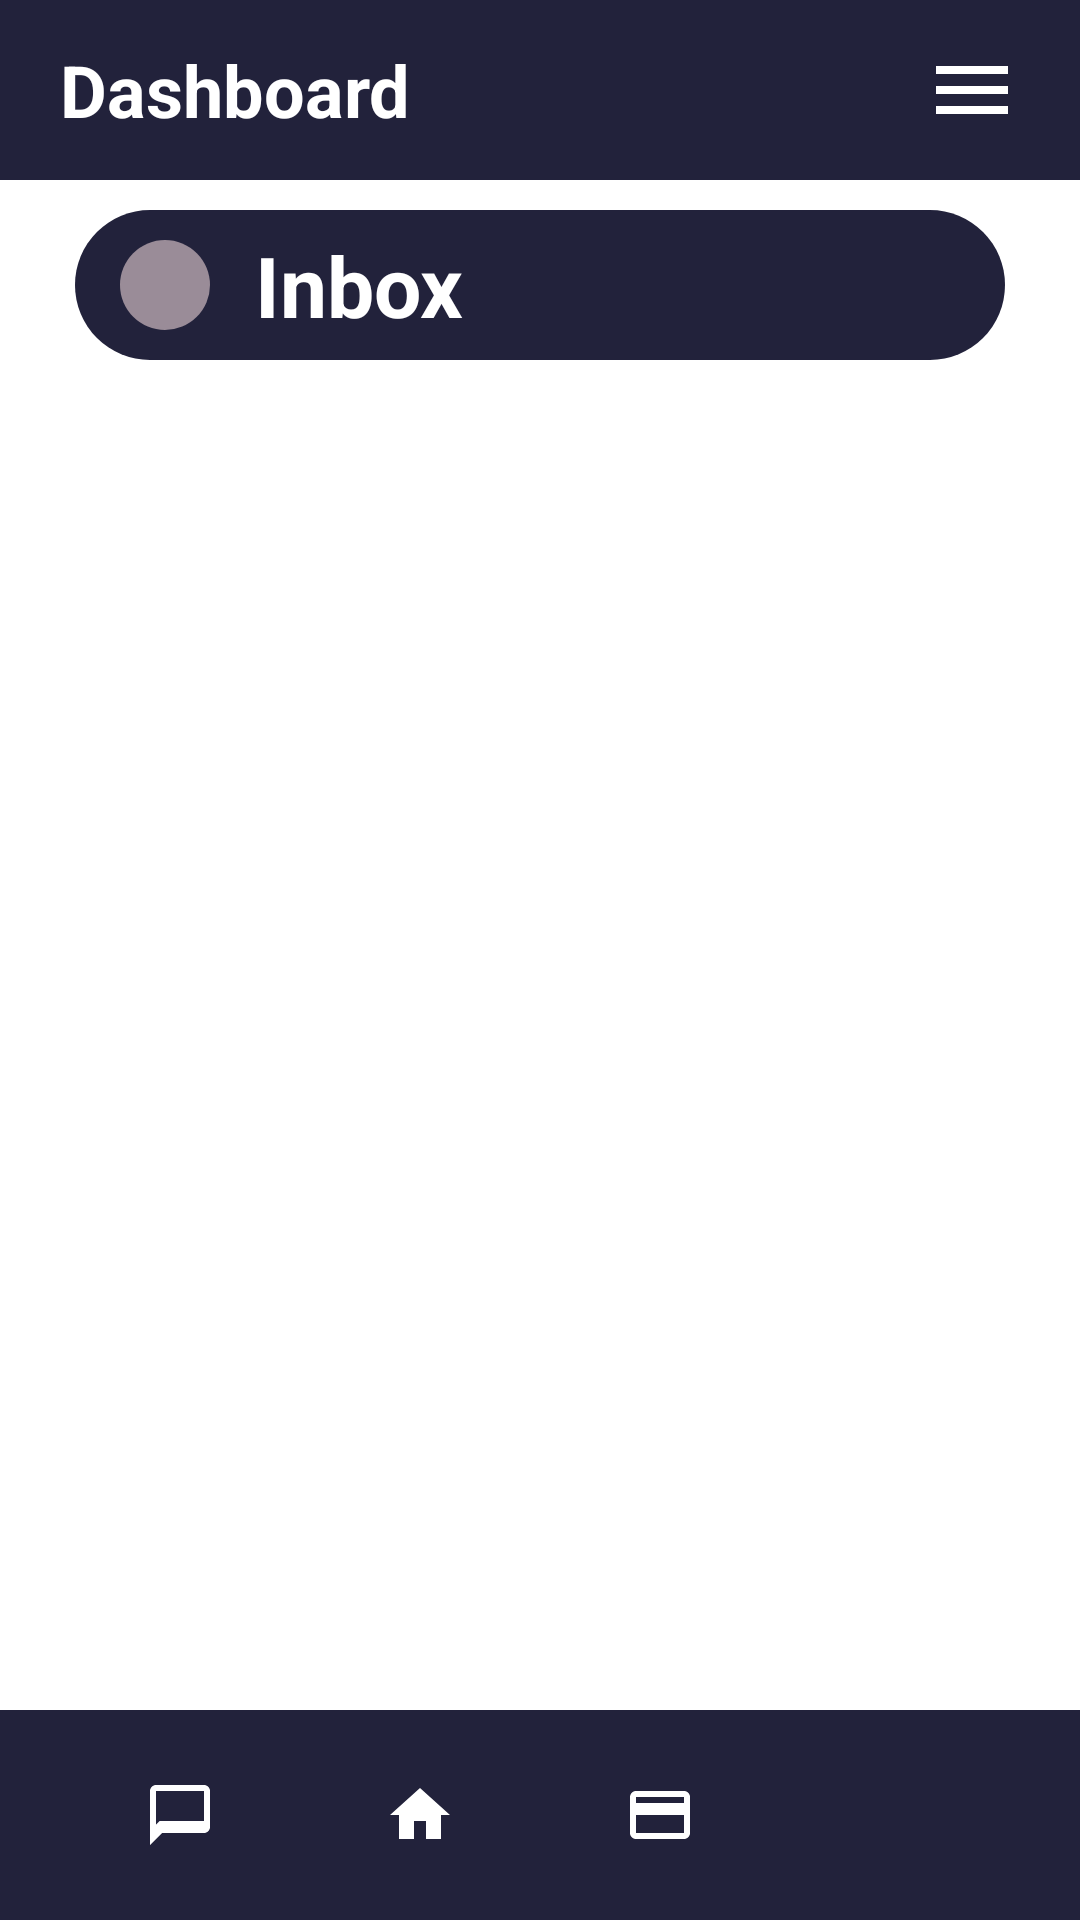

Where to tap for icons on this 1080×1920 app screen, as (x=x, y=y):
Home: (x=420, y=1813)
Menu: (x=972, y=90)
Messages: (x=180, y=1815)
Payments: (x=660, y=1815)
